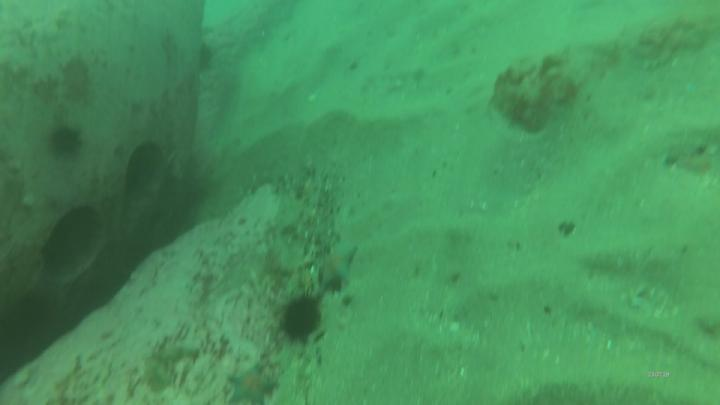echinus: (268, 285, 329, 348), (45, 121, 87, 162)
starfish: (308, 239, 360, 291), (228, 362, 284, 405)
